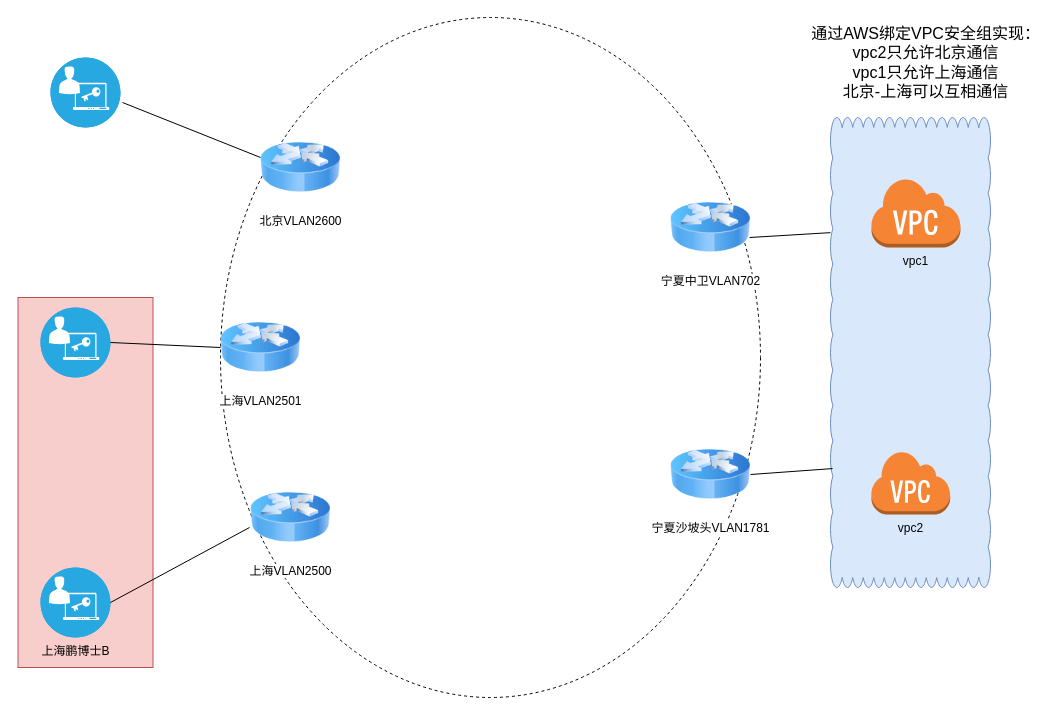
Image size: 1057x715. Some labels were removed from this diagram. Here are the shapes that lost their labels. From the top down, the box of each, then its label:
(50, 56, 120, 128): 北京鹏博士
(40, 306, 110, 378): 上海鹏博士A
(830, 116, 990, 588): AWS
(17, 296, 153, 668): 主备
